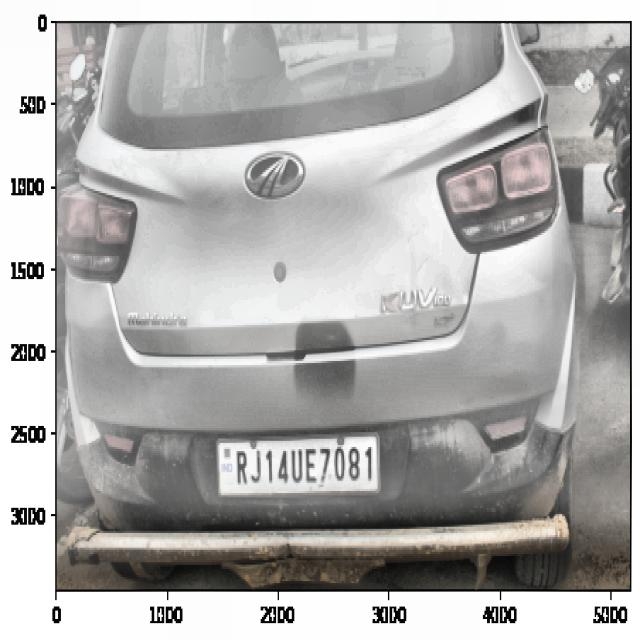license_plate: (223, 438, 380, 496)
